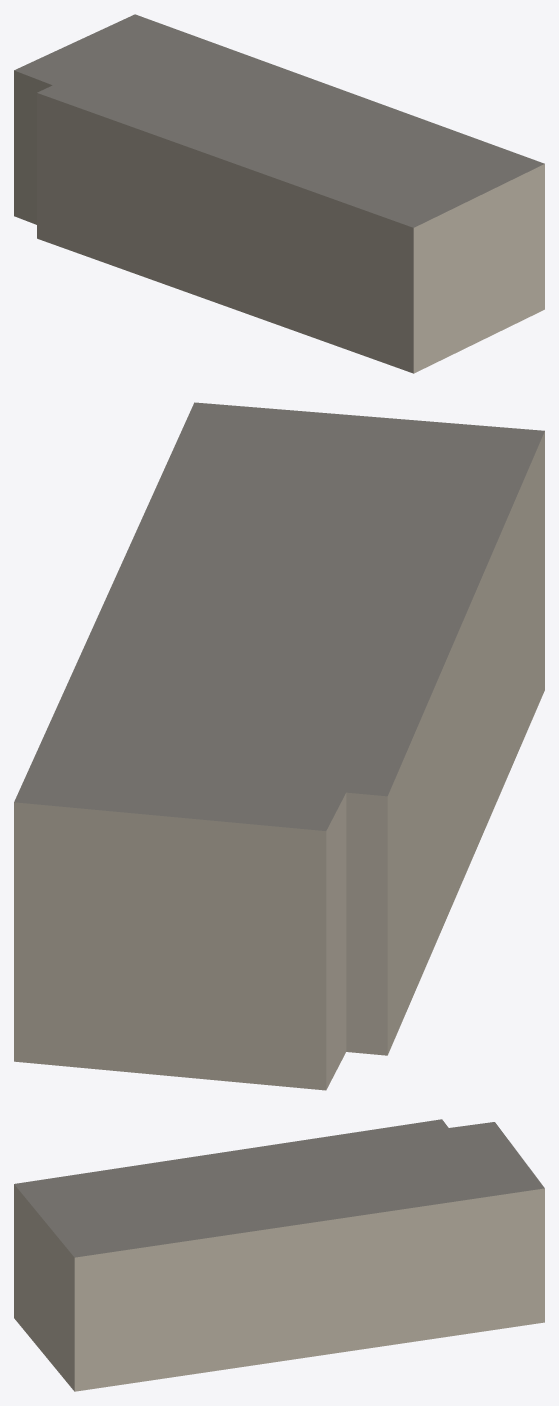
The picture shows the model from 3 angles, top to bottom: view 1: azimuth 30°, elevation 25°; view 2: azimuth 150°, elevation 25°; view 3: azimuth 270°, elevation 25°; orthographic projection. The views are drawn at different scales.
Visible parts, largest first — view 1: HP-w501429427; view 2: HP-w501429427; view 3: HP-w501429427.
Boxes of the visible parts, left/top/right/bottom form: HP-w501429427: left=14, top=14, right=544, bottom=373; HP-w501429427: left=14, top=402, right=544, bottom=1090; HP-w501429427: left=14, top=1119, right=544, bottom=1391.
Size of the model in its own units: 39.85 by 18 by 64.59.
